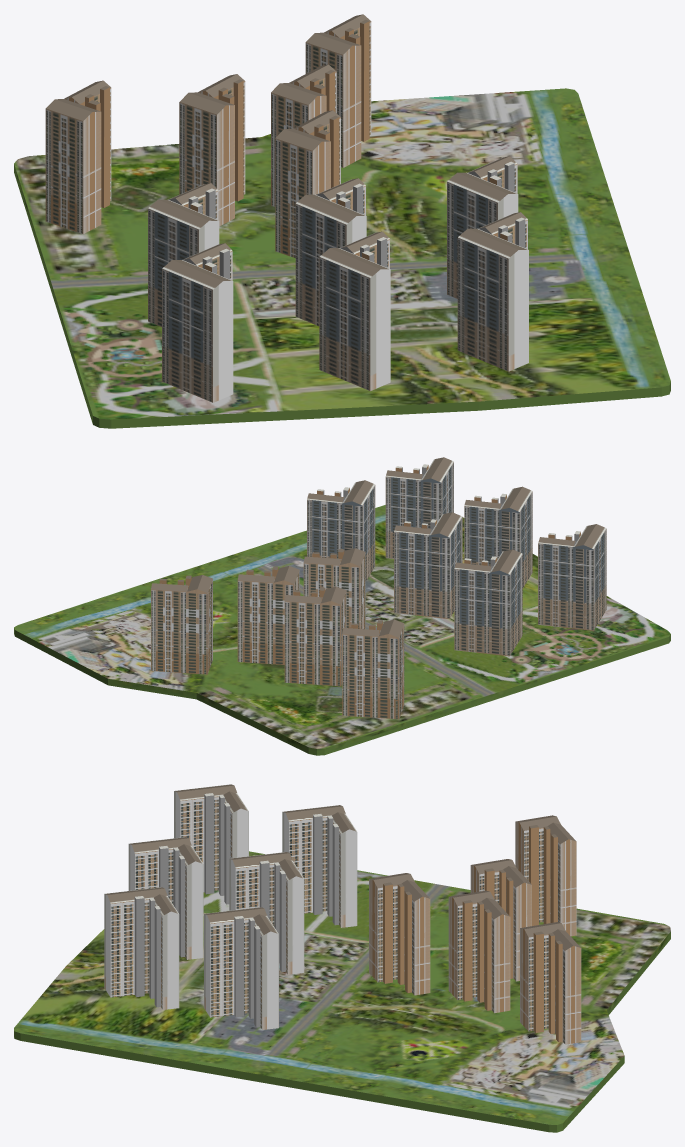
Rendered from ICJ00105_A.glb.
3 renders of one model, top to bottom at view 1: azimuth 30°, elevation 25°; view 2: azimuth 150°, elevation 25°; view 3: azimuth 270°, elevation 25°, orthographic. The views are drawn at different scales.
Visible parts, largest first — view 1: MainBuilding; view 2: MainBuilding; view 3: MainBuilding.
Boxes of the visible parts, box(x1,y1,x2,y2) form: MainBuilding: box(14, 14, 670, 428); MainBuilding: box(14, 457, 670, 755); MainBuilding: box(14, 784, 670, 1132).
Bounding box in the file's own units: 3570 × 623 × 3515.
1 material, 1 textured.
